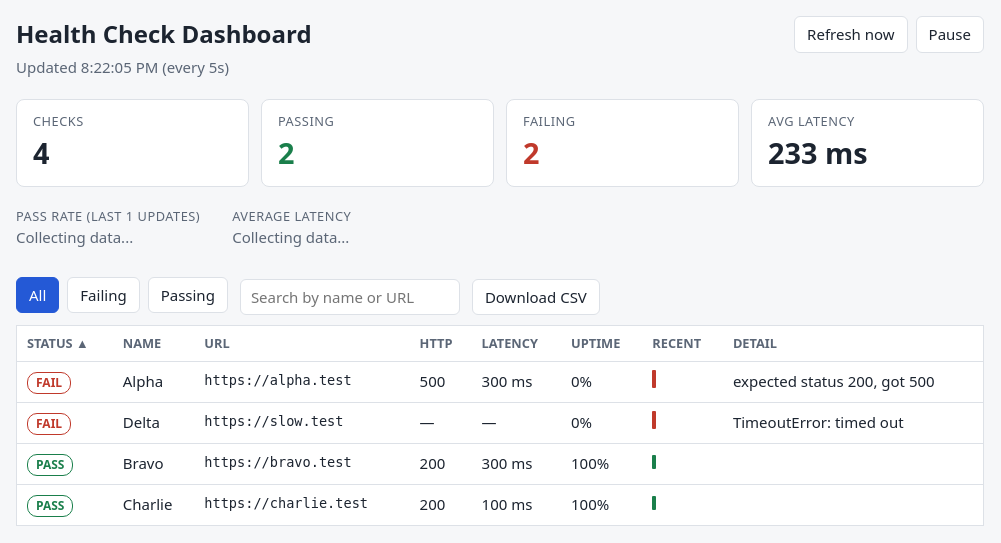
Test case: searches from the toolbar together with the status filter
Expected: the table is shown, x1=16 y1=325 x2=984 y2=526
Type "a" into the search field named "Search checks" at (350, 297), box x1=240 y1=279 x2=460 y2=315
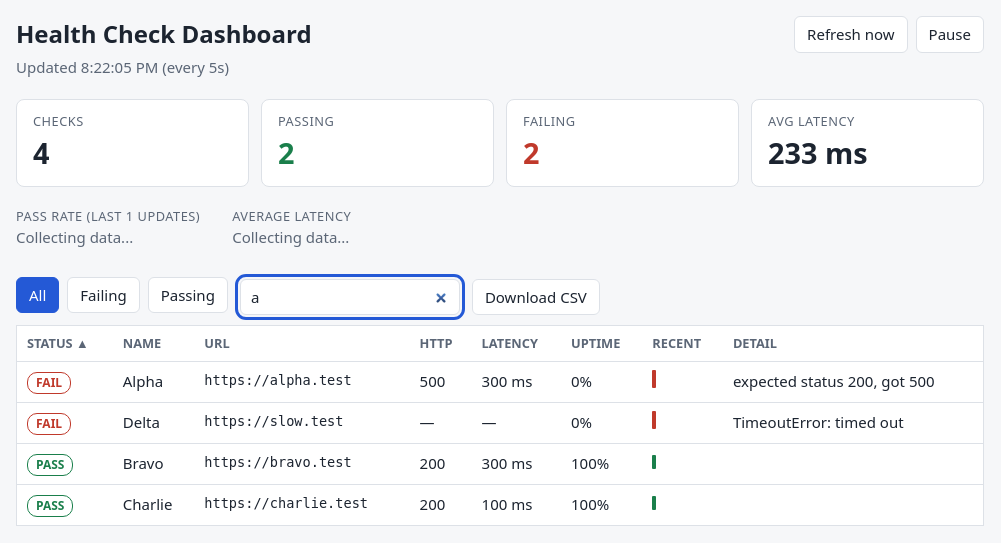
Click the button "Passing" at (188, 295), box x1=148 y1=277 x2=228 y2=313
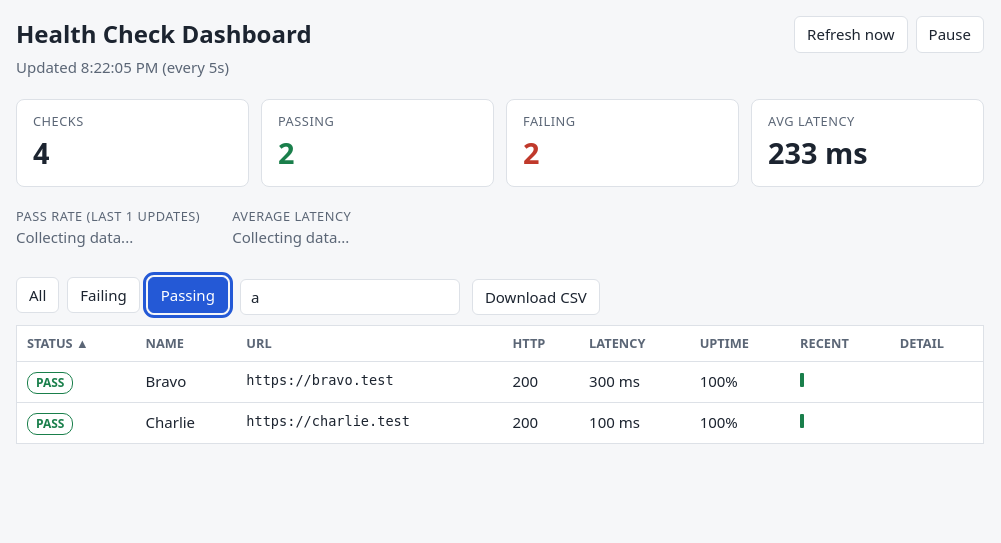
Expected: the text "Bravo" is shown, x1=136 y1=362 x2=236 y2=403
Now the text "Alpha" is gone
Type "zzz" into the search field at (350, 297), box x1=240 y1=279 x2=460 y2=315
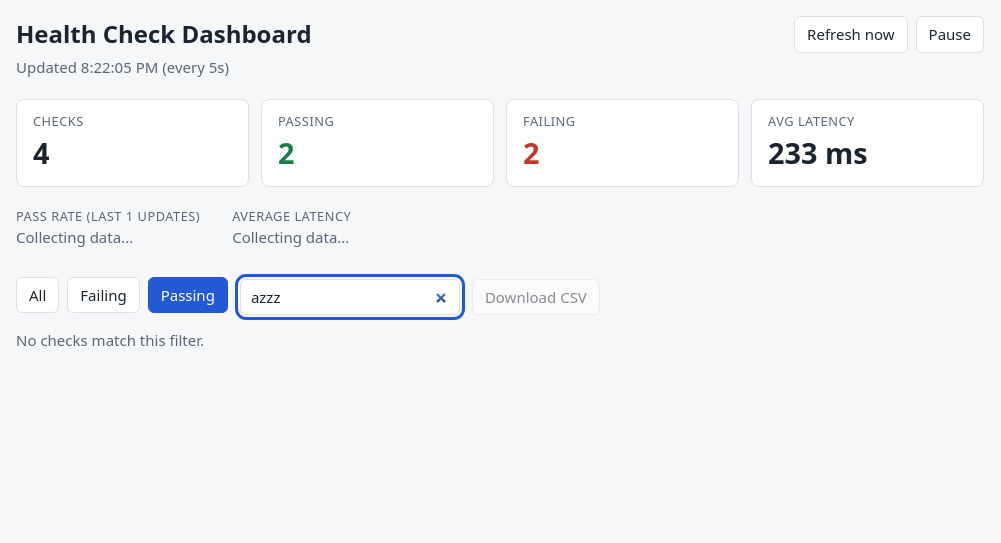
Now the text "No checks match this filter." is shown, box x1=16 y1=330 x2=204 y2=350
